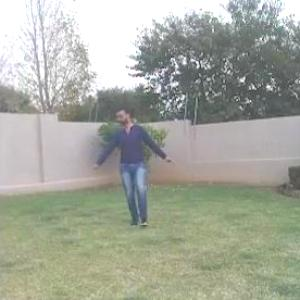land: (70, 87, 182, 239)
